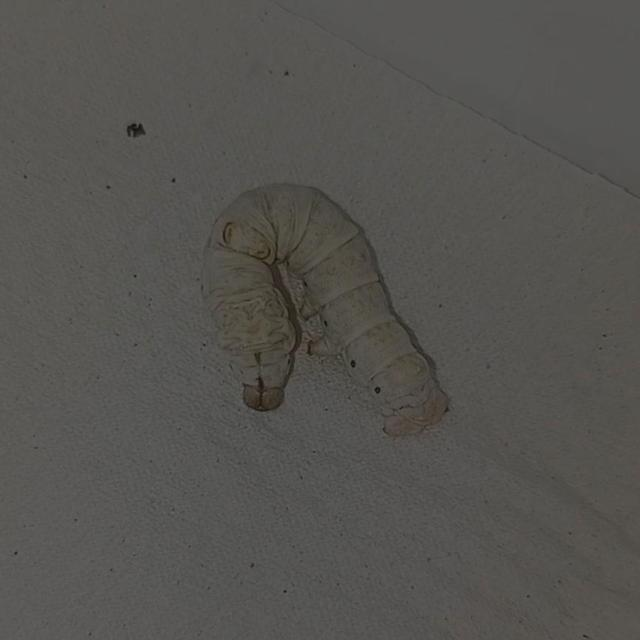Healthy: (193, 170, 457, 454)
